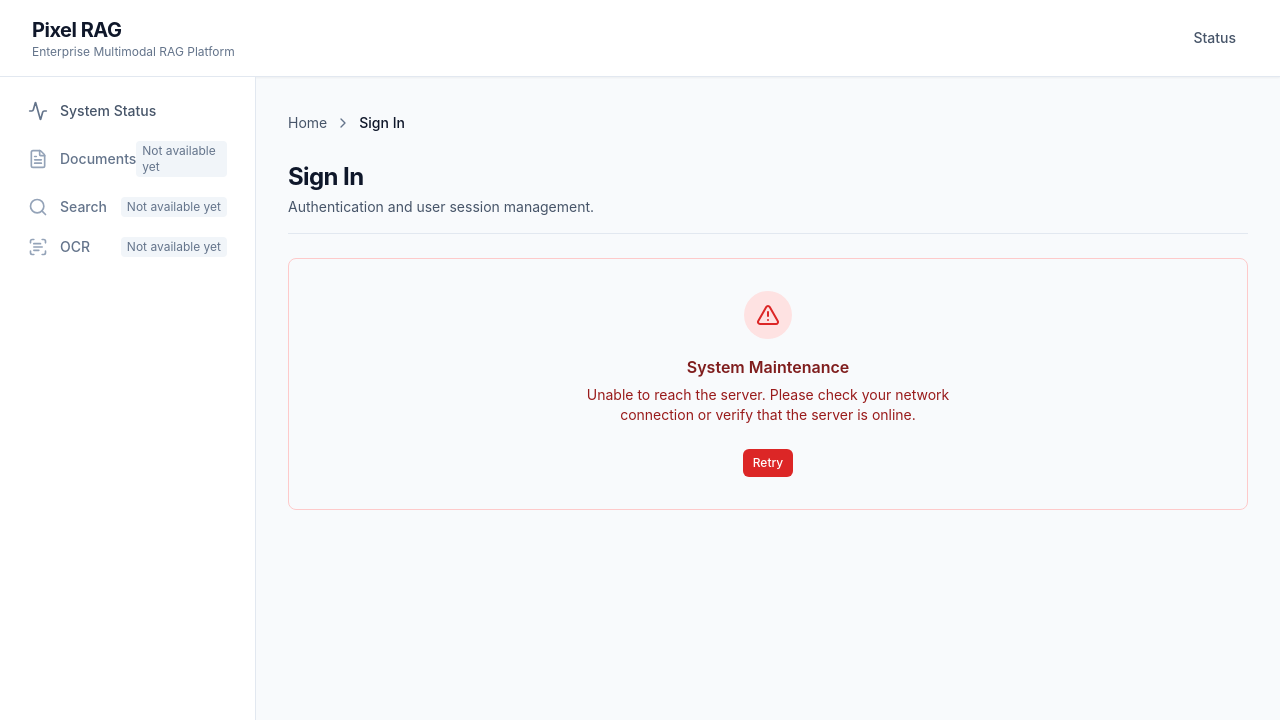
Test: Public Route Shell and Maintenance UX › Route: /login › renders maintenance panel on network failure and handles retry recovery
Check: the message is shown, box [288,258,1248,510]
Check: the text "Unable to reach the server" is shown, box [587,386,949,423]
Click the button "Retry": (768, 463) [743,449,793,477]
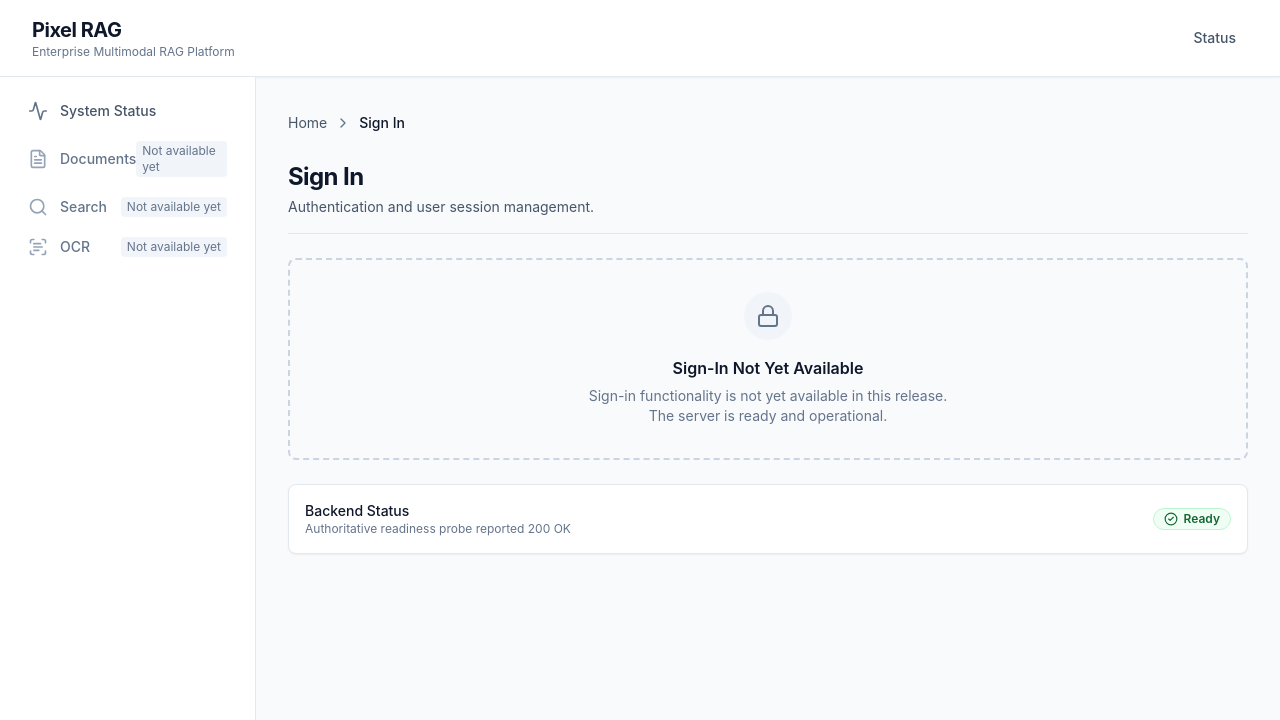
Check: the text "Sign-in functionality is not yet available" is shown, box [589,387,947,424]
